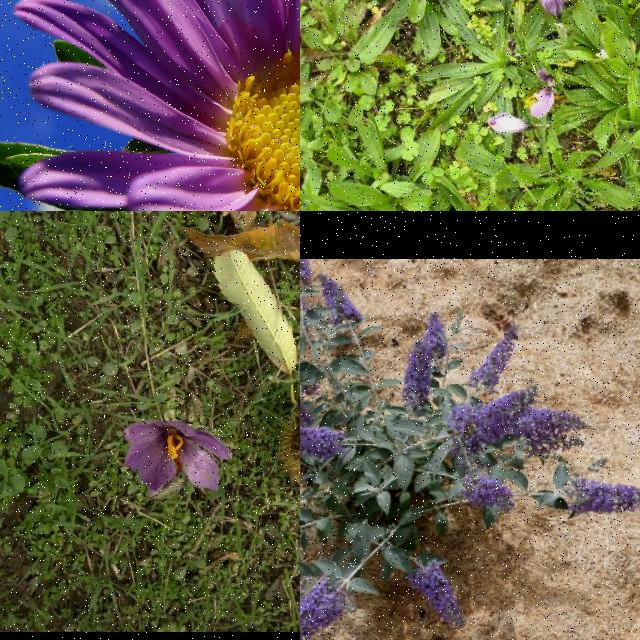flower: (124, 420, 234, 498), (486, 113, 532, 135), (537, 0, 566, 19)
